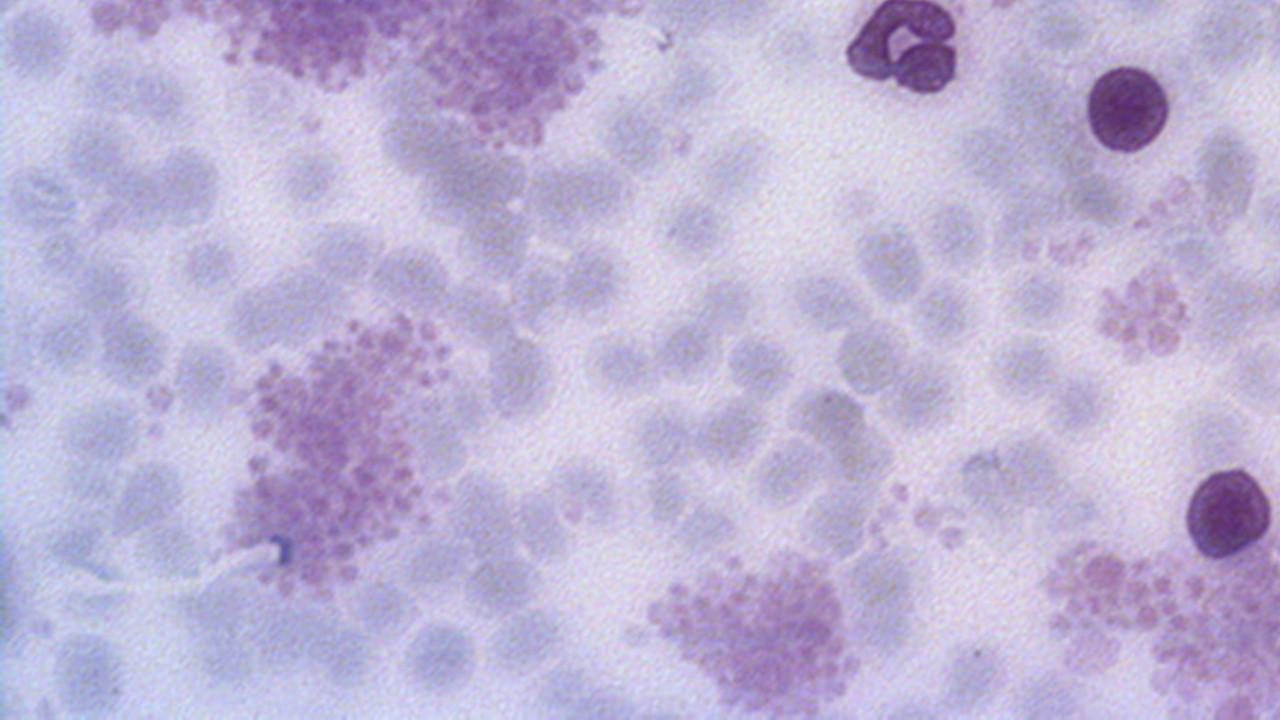RBC: (838, 1, 966, 107), (1179, 460, 1277, 564), (1082, 58, 1174, 158)
WBC: (0, 0, 1134, 720), (840, 6, 968, 105)
